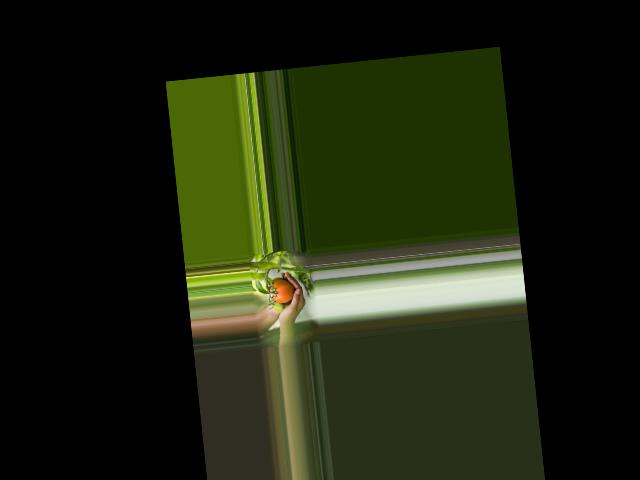tomato: (269, 279, 295, 304)
